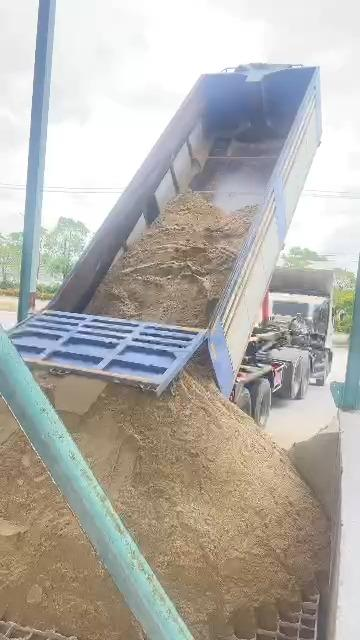sand: (62, 364, 327, 639), (63, 370, 327, 639), (0, 432, 141, 639), (0, 435, 140, 639), (87, 194, 255, 327), (89, 195, 253, 325), (288, 418, 341, 521), (43, 377, 57, 404)
